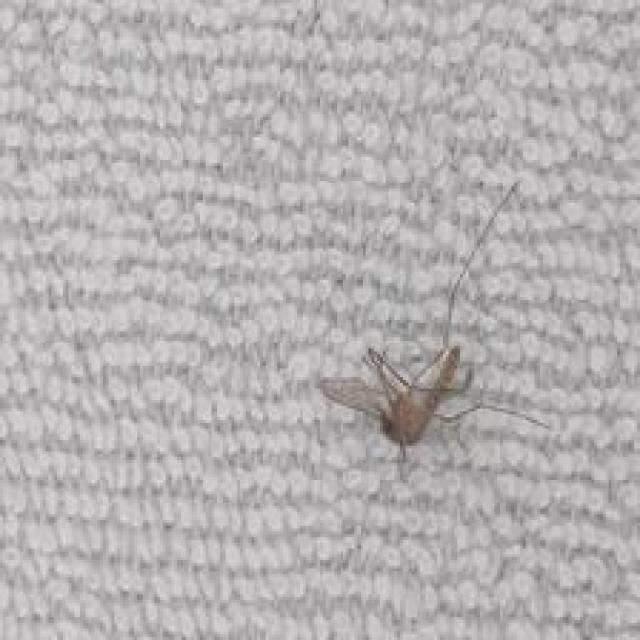Culex: (316, 179, 550, 470)
